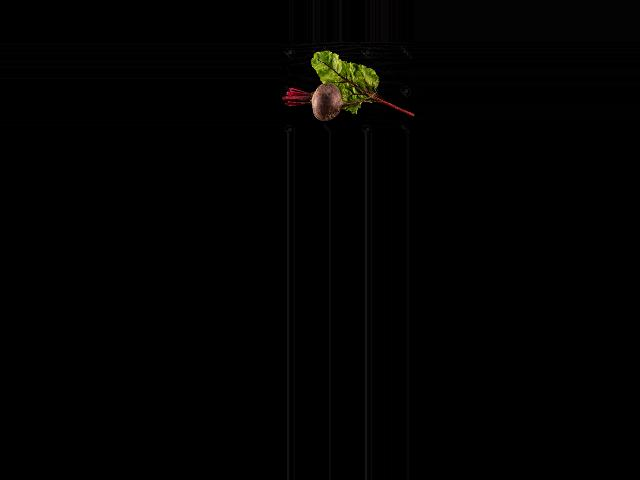beet: (281, 83, 377, 121)
